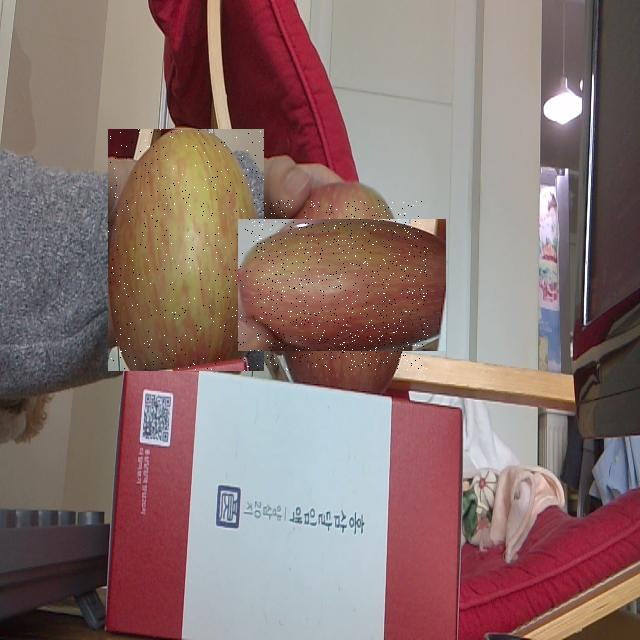apple: (108, 129, 264, 371), (257, 200, 428, 370)
